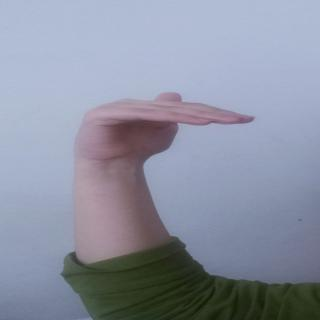KHAA: (63, 84, 265, 165)
